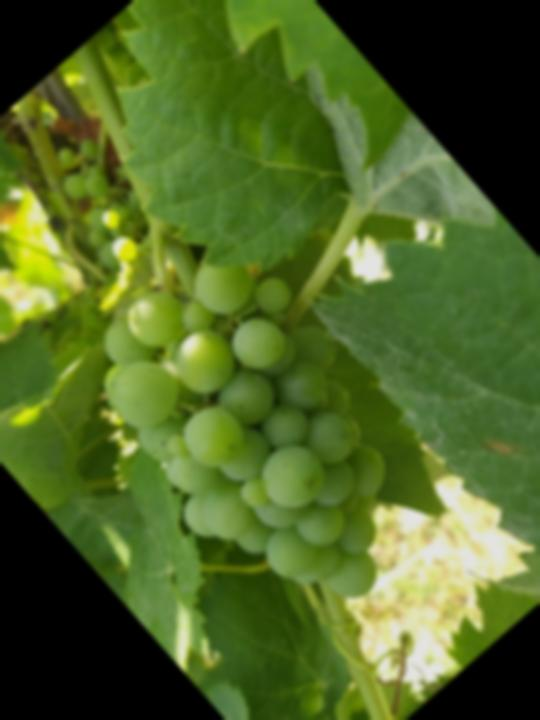grape: (49, 217, 471, 652)
